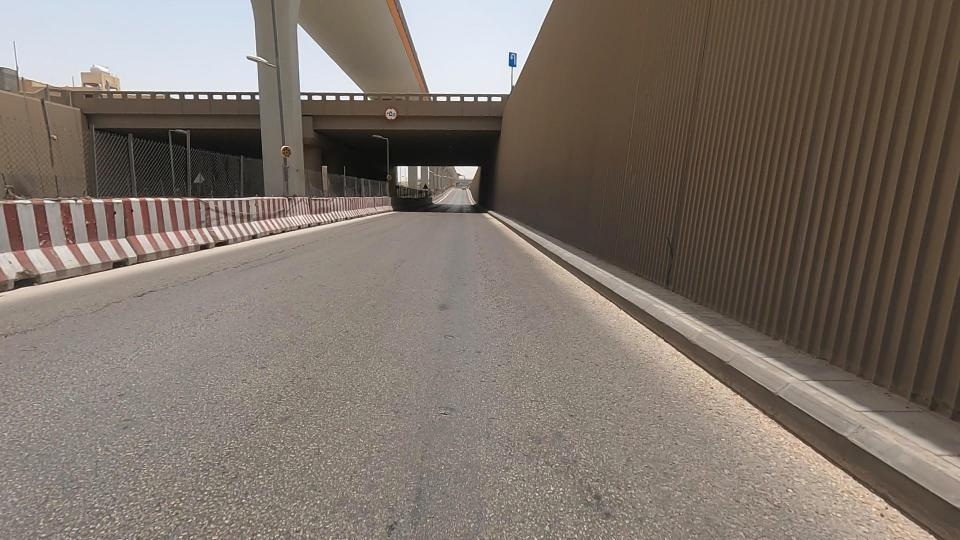CONSTRUCTION_ROAD: (64, 101, 372, 284), (0, 72, 198, 322), (266, 152, 414, 239)
